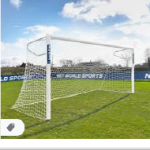goals: (10, 32, 136, 120)
